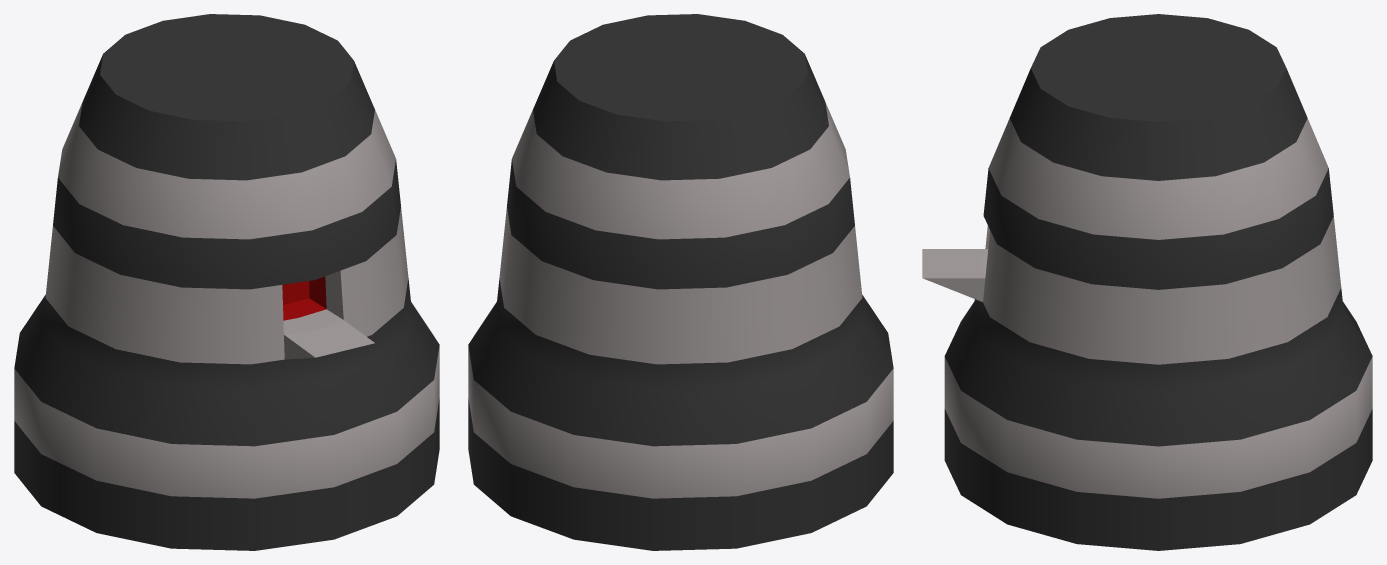
Rendered from Smelter.fbx.
3 renders of one model, left to right at view 1: azimuth 30°, elevation 25°; view 2: azimuth 150°, elevation 25°; view 3: azimuth 270°, elevation 25°, orthographic.
Visible parts, largest first — view 1: Smelter; view 2: Smelter; view 3: Smelter.
Part boxes in pixels (left/top/right/bottom): Smelter: left=14, top=14, right=439, bottom=550; Smelter: left=468, top=14, right=893, bottom=550; Smelter: left=922, top=14, right=1372, bottom=550.
Bounding box in the file's own units: 191 × 193 × 201.
